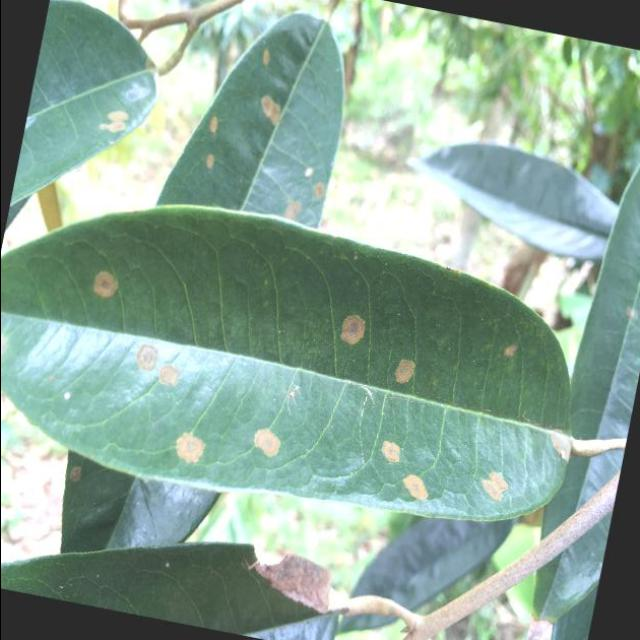Algal Leaf Spot: (0, 160, 618, 574)
